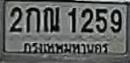1: (68, 8, 76, 33)
2: (10, 7, 22, 32), (81, 8, 93, 33)
5: (96, 8, 108, 32)
9: (111, 9, 122, 33)
A01: (25, 7, 40, 33)
A19: (43, 7, 60, 33)
BKK: (19, 39, 112, 58)
